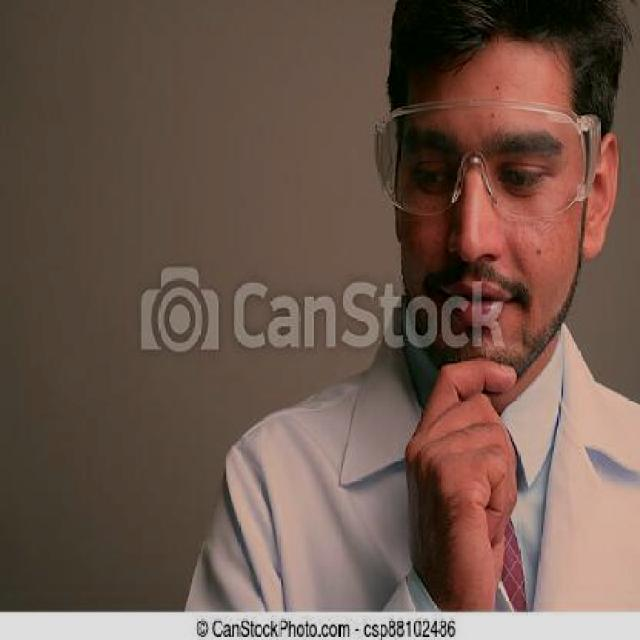face_nomask: (398, 132, 572, 343)
glasses: (370, 95, 599, 230)
hand_noglove: (398, 356, 553, 610)
person: (178, 0, 639, 612)
